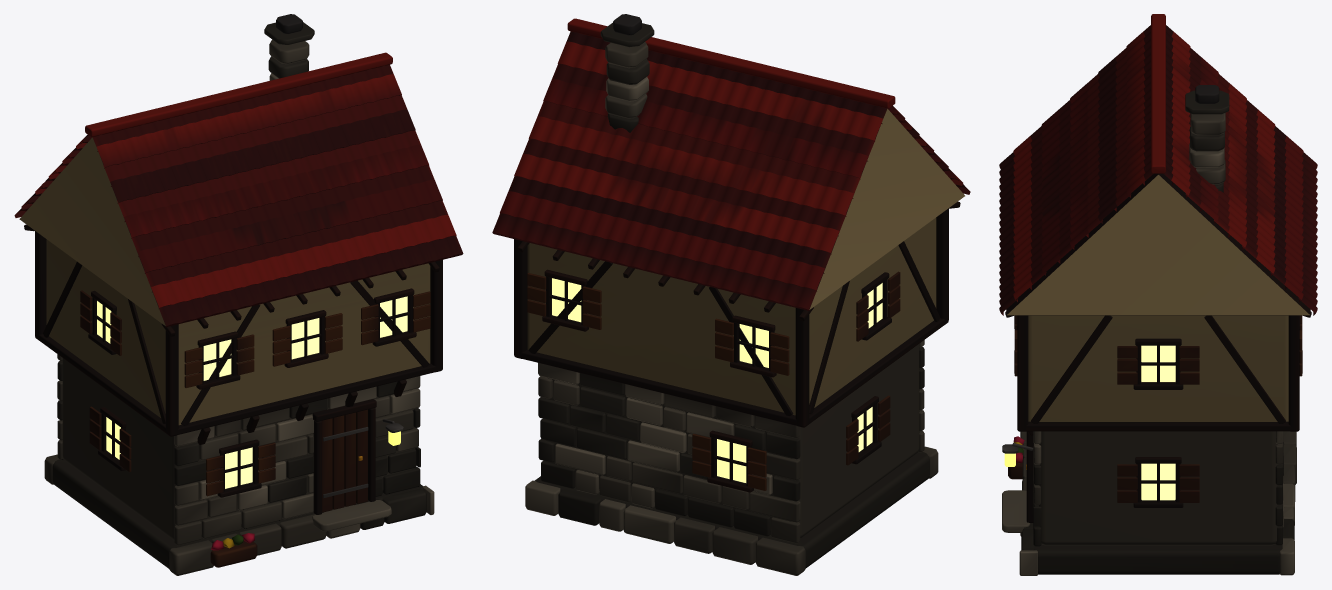
The model's file is Sobrado2.fbx.
The picture shows the model from 3 angles, left to right: view 1: azimuth 30°, elevation 25°; view 2: azimuth 150°, elevation 25°; view 3: azimuth 270°, elevation 25°; orthographic projection. The views are drawn at different scales.
Visible parts, largest first — view 1: Sobrado2; view 2: Sobrado2; view 3: Sobrado2.
Part boxes in pixels (x1,y1,x2,y2): Sobrado2: (14, 14, 463, 575); Sobrado2: (492, 14, 970, 575); Sobrado2: (999, 14, 1317, 575).
Bounding box in the file's own units: 6.39 × 8.97 × 5.64.
